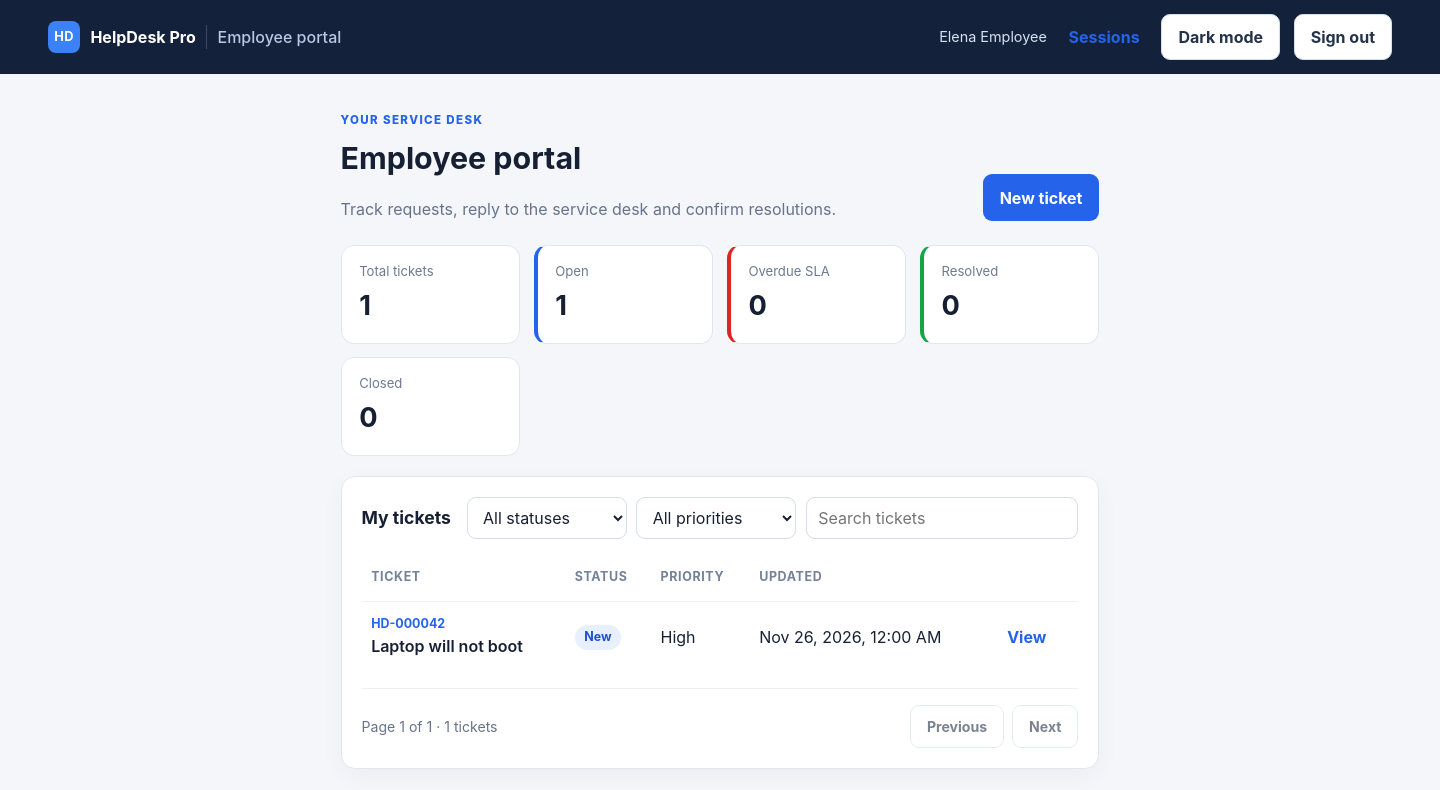
Test case: employee portal › does not claim success or clear reply text when the detail refresh fails
Expected: the text "HD-000042" is shown, [371, 616, 445, 631]
Click the button "View" at [1027, 637], box [999, 619, 1055, 654]
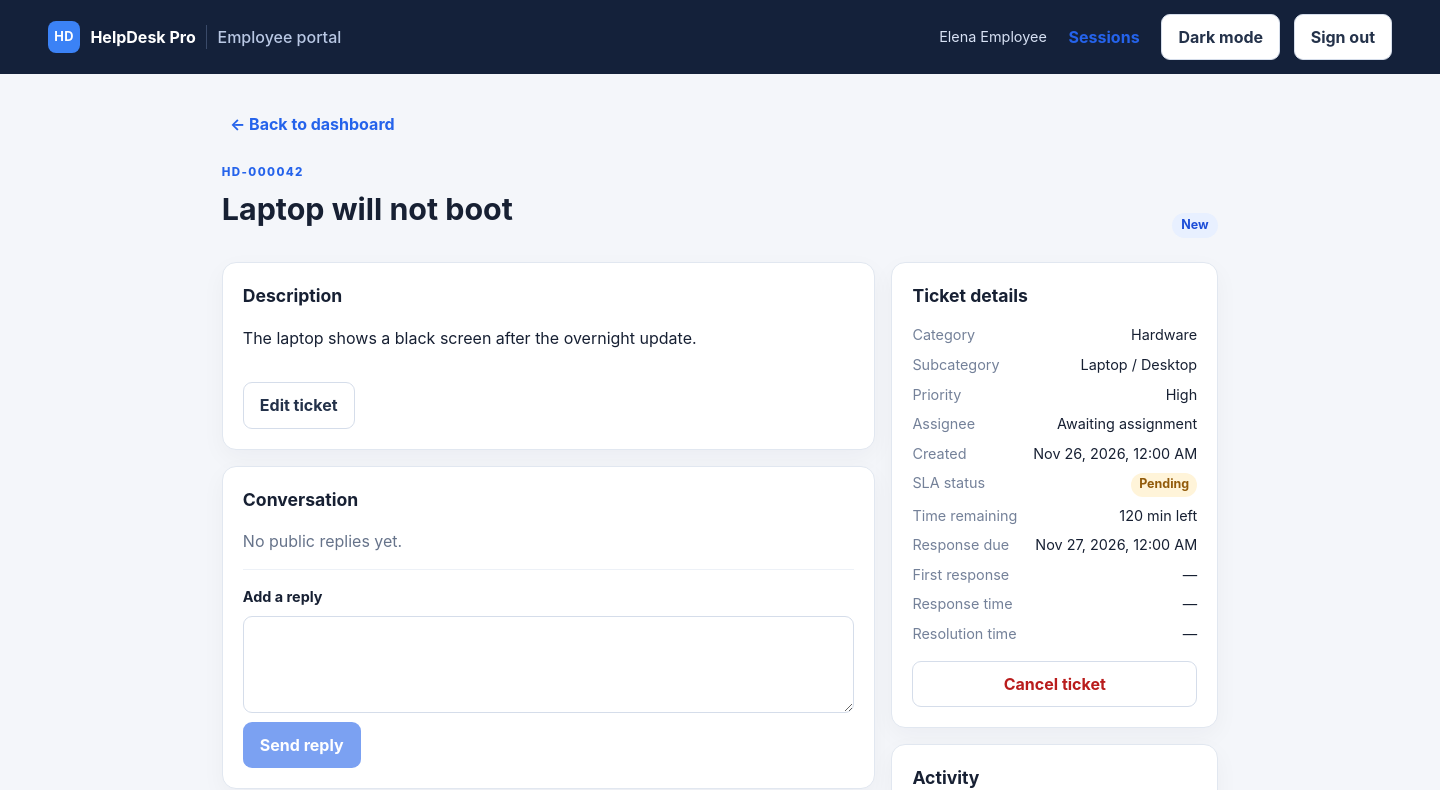
Type "Please keep this text." into the text box labelled "Add a reply" at [549, 664], box [243, 616, 854, 713]
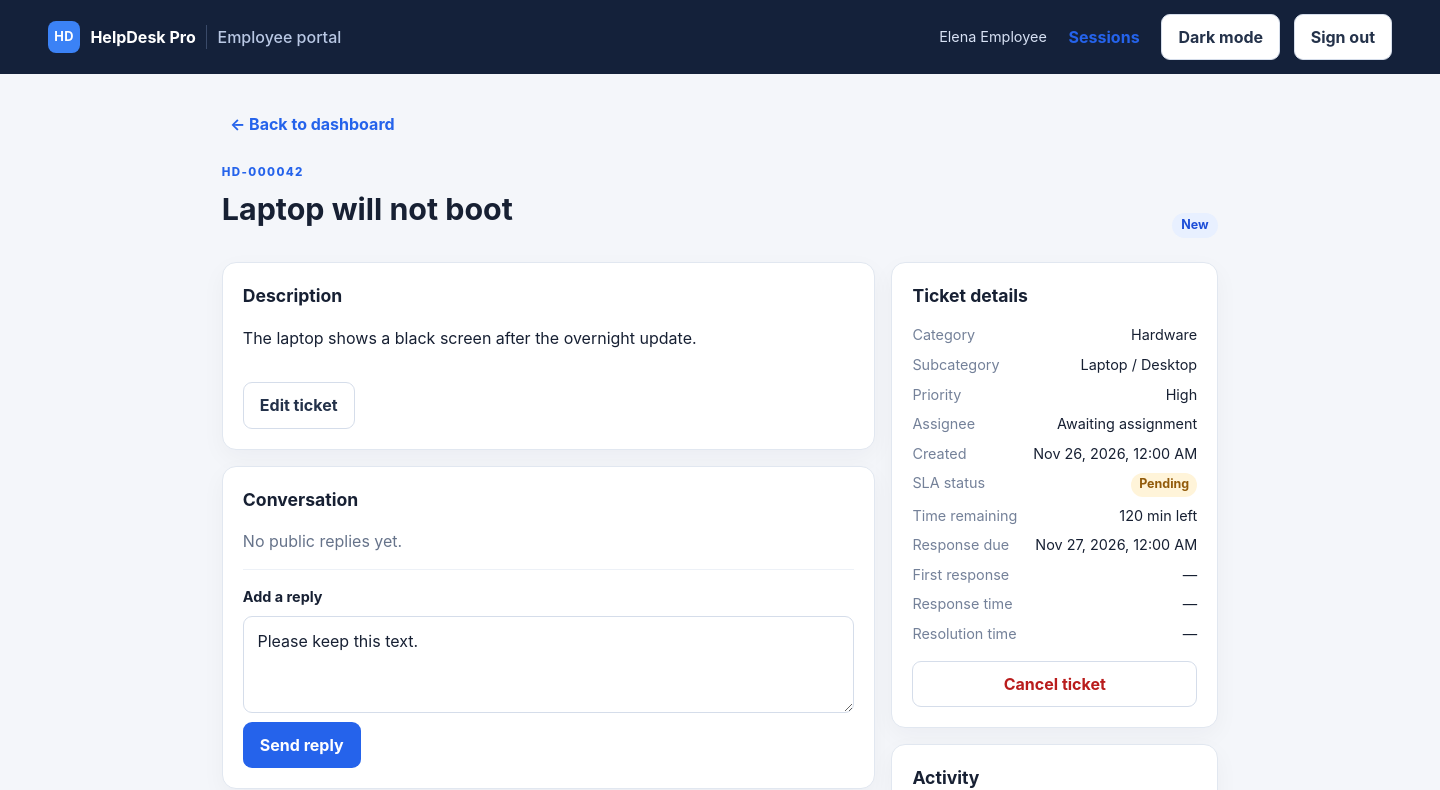
Click the button "Send reply" at [302, 745], box [243, 722, 360, 768]
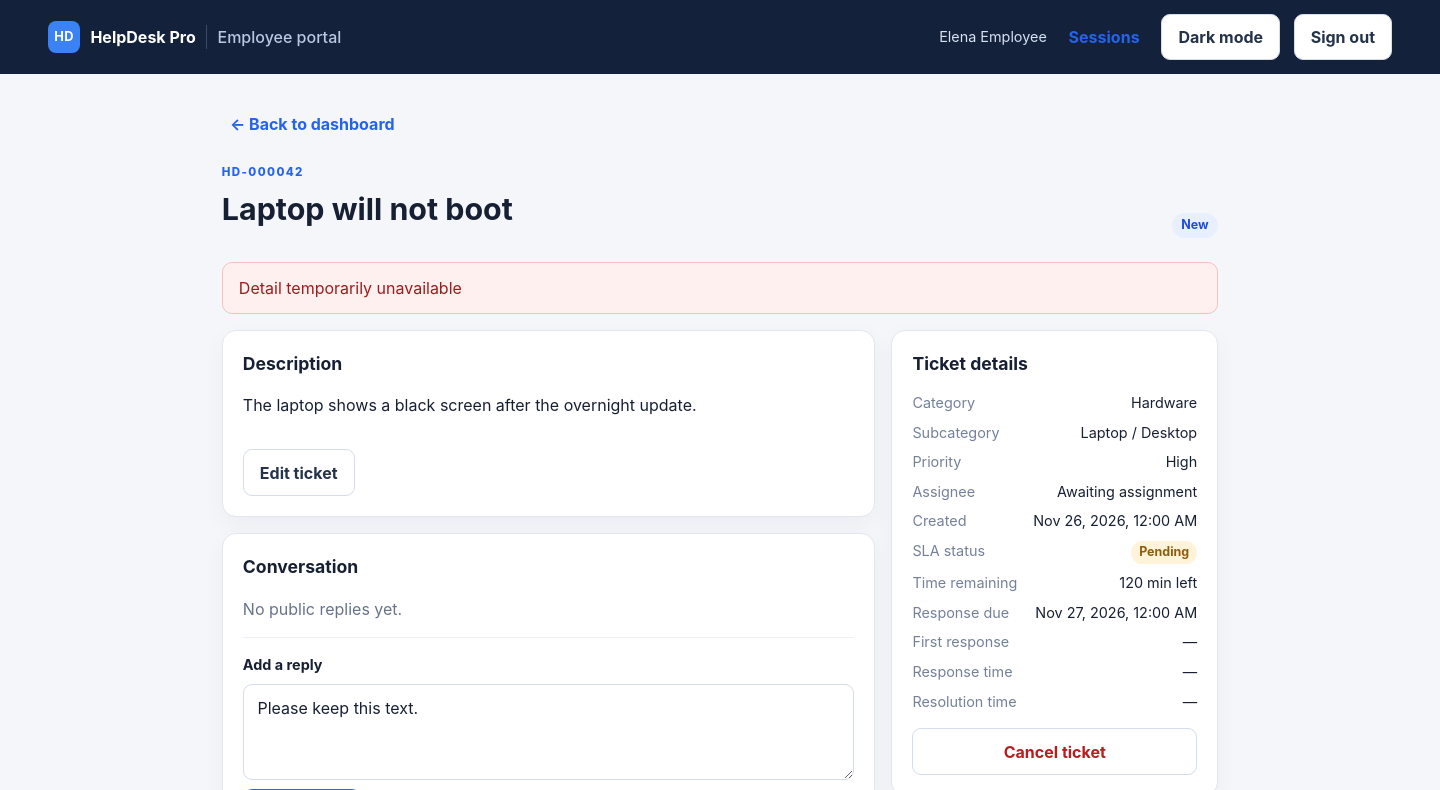
Expected: the text "Detail temporarily unavailable" is shown, [239, 276, 462, 300]
